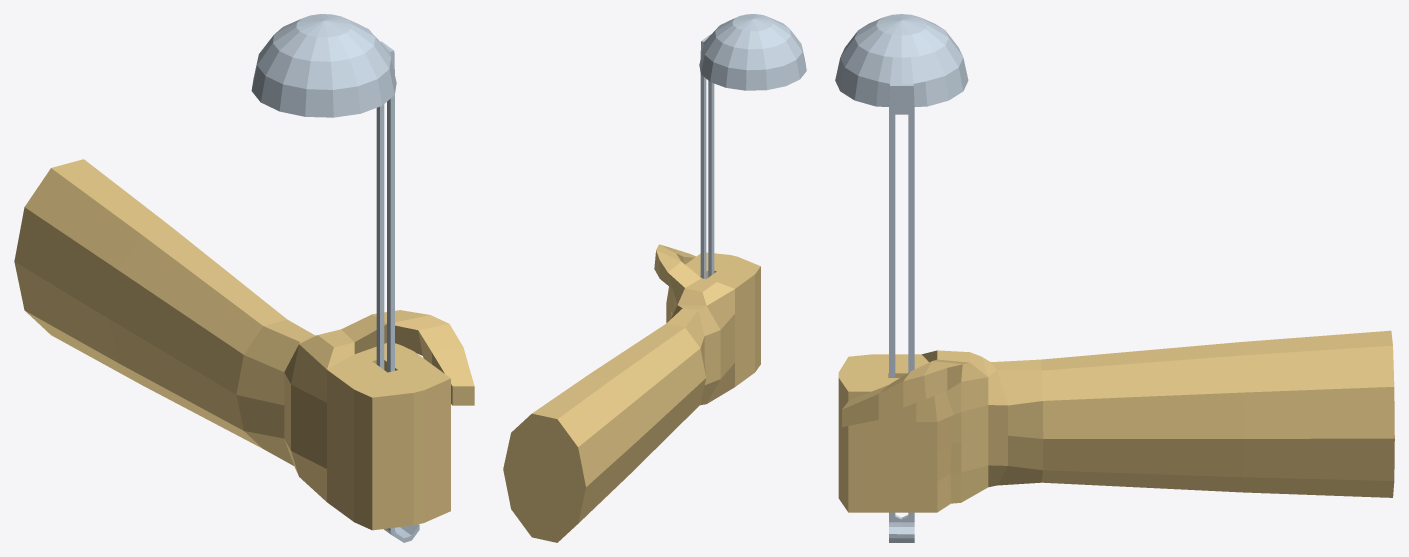
The model's file is Attack Hand.fbx.
3 renders of one model, left to right at view 1: azimuth 30°, elevation 25°; view 2: azimuth 150°, elevation 25°; view 3: azimuth 270°, elevation 25°, orthographic. The views are drawn at different scales.
Visible parts, largest first — view 1: Cube, Sphere; view 2: Cube, Sphere; view 3: Cube, Sphere.
Part boxes in pixels (<box>): Cube: <box>14,159,474,530</box>; Sphere: <box>251,14,419,542</box>; Cube: <box>503,244,760,542</box>; Sphere: <box>699,14,806,278</box>; Cube: <box>838,330,1394,512</box>; Sphere: <box>835,14,968,542</box>.
Bounding box in the file's own units: 300 × 806 × 839.
